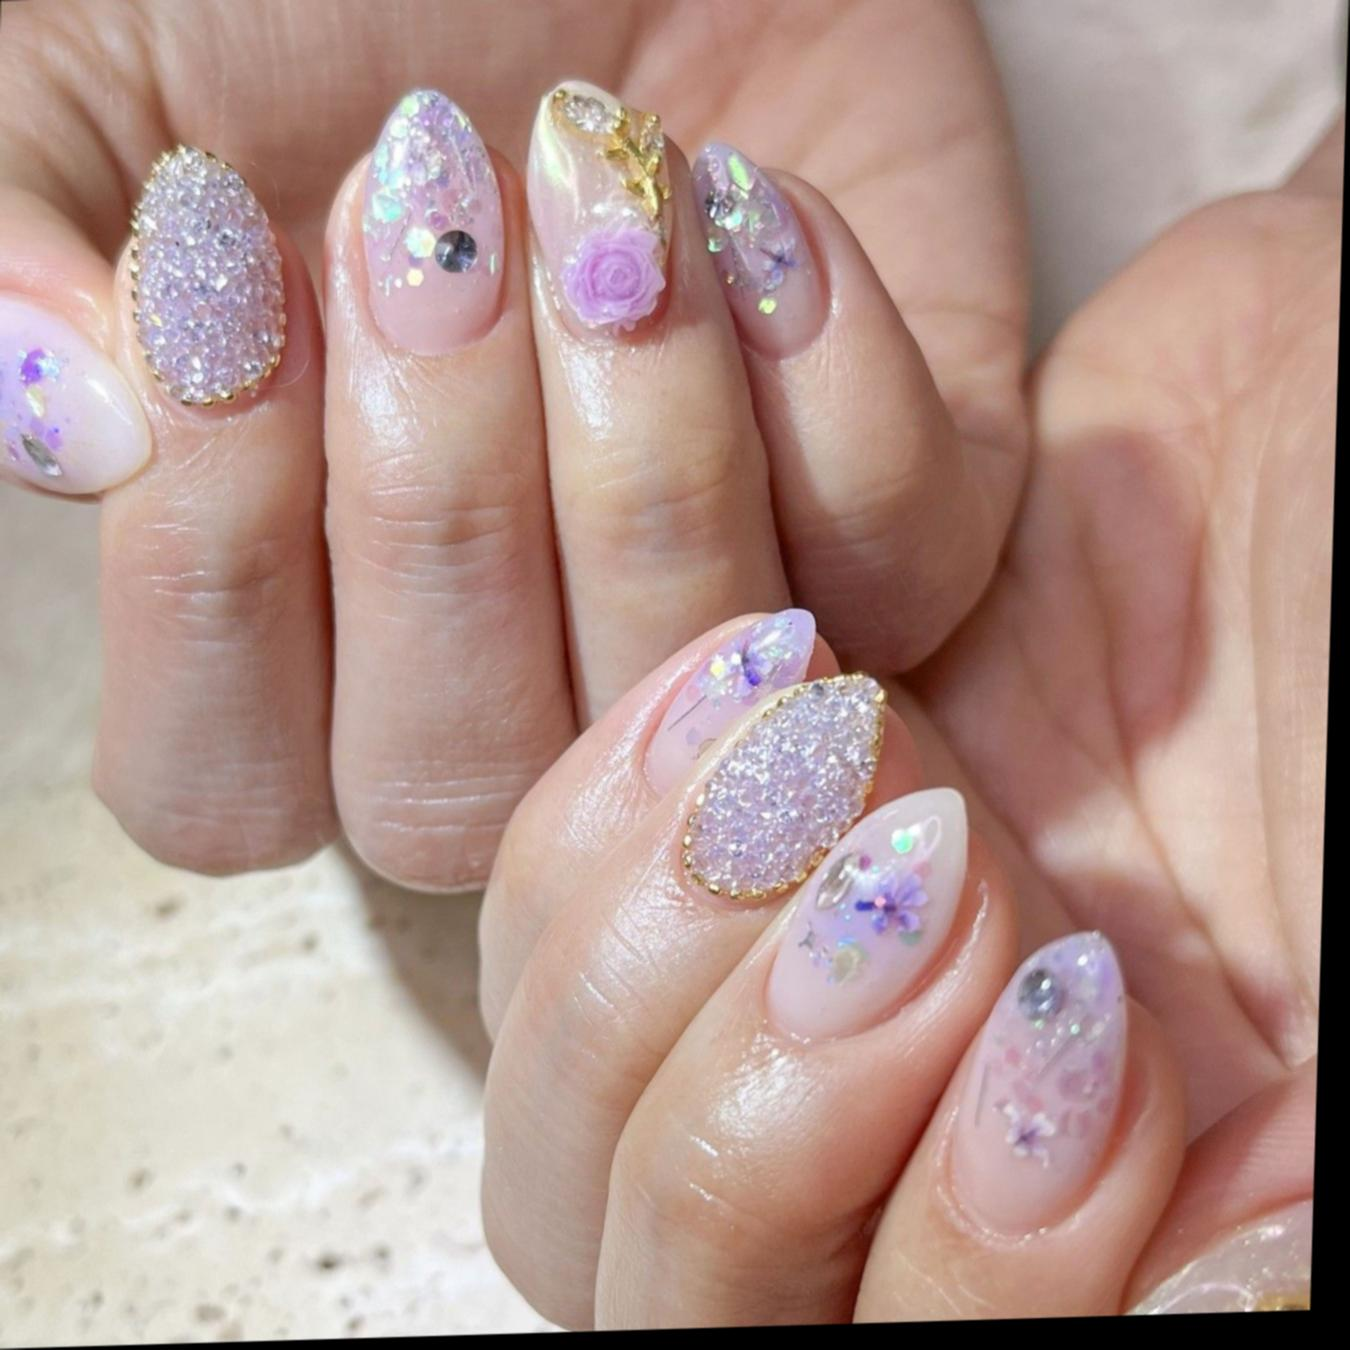nail: (941, 925, 1134, 1244), (763, 783, 972, 1042), (677, 669, 889, 904), (120, 137, 294, 409), (356, 82, 513, 356), (520, 74, 679, 333), (639, 603, 820, 805), (0, 281, 161, 497), (686, 135, 837, 360)
